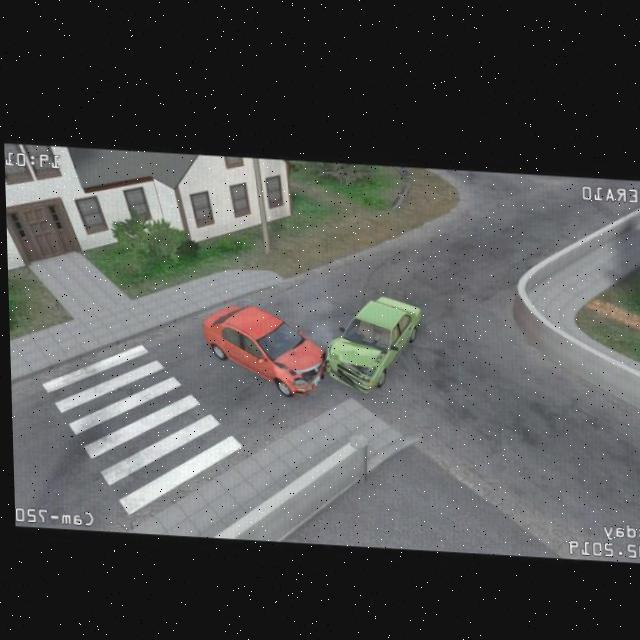multiple_accident: (190, 270, 446, 421)
